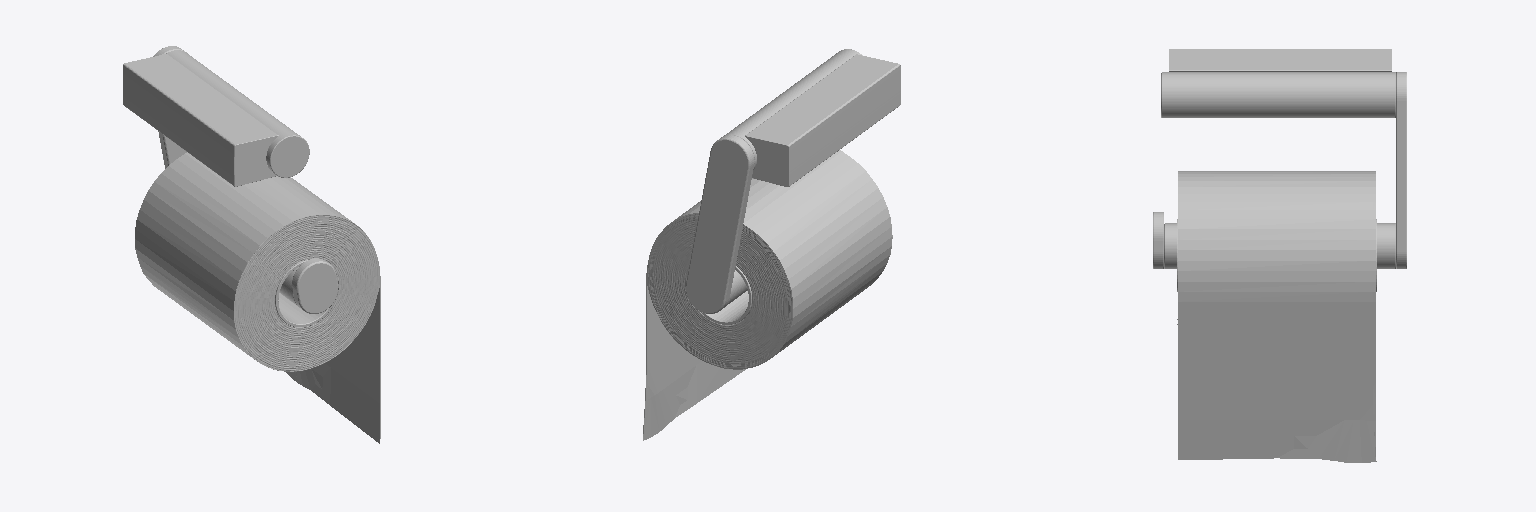
Rendered from papel.obj.
The picture shows the model from 3 angles: view 1: azimuth 30°, elevation 25°; view 2: azimuth 150°, elevation 25°; view 3: azimuth 270°, elevation 25°; orthographic projection.
Parts seen in each view (by area): view 1: Arch46_049_9, papel, Arch46_049_8, Arch46_049_7; view 2: Arch46_049_9, papel, Arch46_049_7, Arch46_049_8; view 3: Arch46_049_9, Arch46_049_8, papel, Arch46_049_7.
Boxes of the visible parts, x1=… form: Arch46_049_9: x1=135, y1=152, x2=380, y2=443; papel: x1=123, y1=54, x2=278, y2=186; Arch46_049_8: x1=166, y1=50, x2=309, y2=177; Arch46_049_7: x1=153, y1=46, x2=337, y2=313; Arch46_049_9: x1=643, y1=150, x2=892, y2=440; papel: x1=745, y1=54, x2=900, y2=186; Arch46_049_7: x1=686, y1=135, x2=754, y2=313; Arch46_049_8: x1=724, y1=49, x2=862, y2=169; Arch46_049_9: x1=1177, y1=171, x2=1376, y2=462; Arch46_049_8: x1=1161, y1=72, x2=1395, y2=117; papel: x1=1169, y1=49, x2=1391, y2=71; Arch46_049_7: x1=1153, y1=72, x2=1406, y2=268.
Bounding box in the file's own units: 0.0874 × 0.184 × 0.1249.